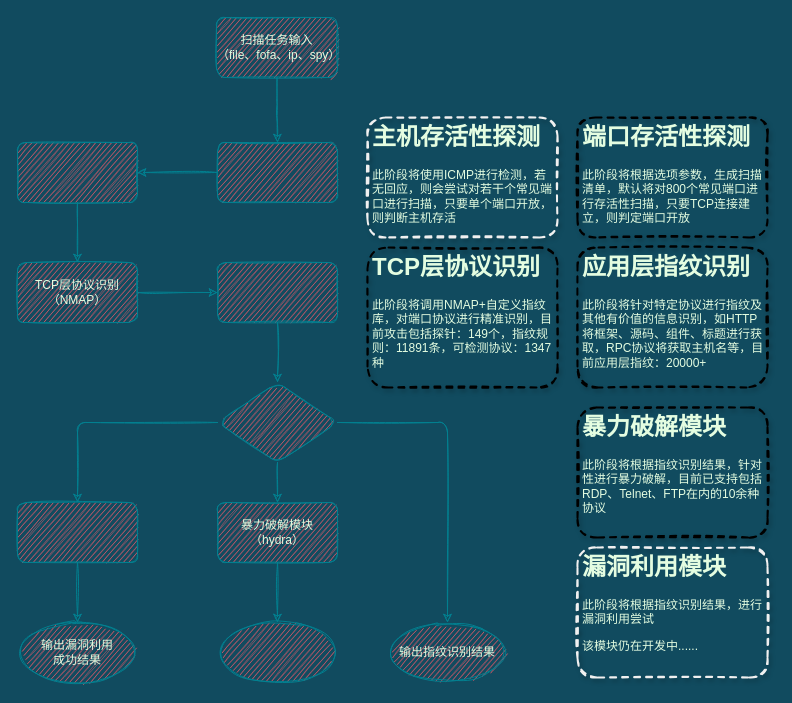
This 792x703 diagram has some shape labels left out. Here are the shapes that lost their labels. From the top down, the centre of each, then its label:
pixel 77 172: 端口存活性检测 （TCP、UDP）
pixel 277 172: 主机存活性检测 （ICMP、TCP）
pixel 277 292: 应用层协议识别 （Title、CMS、Hostname等）
pixel 277 422: 分发器
pixel 77 532: 漏洞利用模块 （exploit）
pixel 277 652: 输出暴力破解 成功结果
